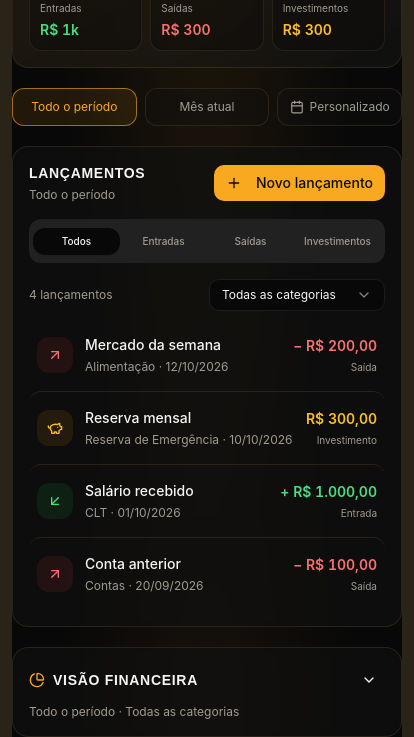
Test case: finance overview and unified transactions › groups only expenses in the chart and makes it collapsible
(page scrolled)
Click the button named "Expandir gráfico financeiro": click(369, 680) [353, 664, 385, 696]
(page scrolled)
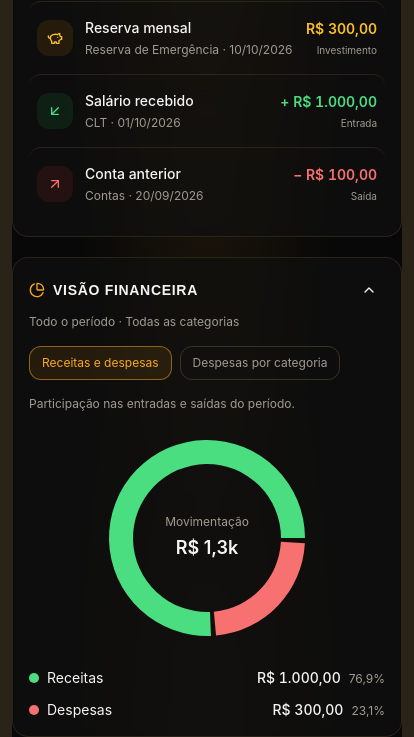
Result: the text "Receitas" is shown at [47, 668, 103, 688]
Result: the text "Despesas" is shown at [47, 700, 112, 720]
Result: the text "76,9%" is shown at [349, 671, 385, 686]
Click the button "Despesas por categoria": click(260, 363) [180, 346, 340, 380]
(page scrolled)
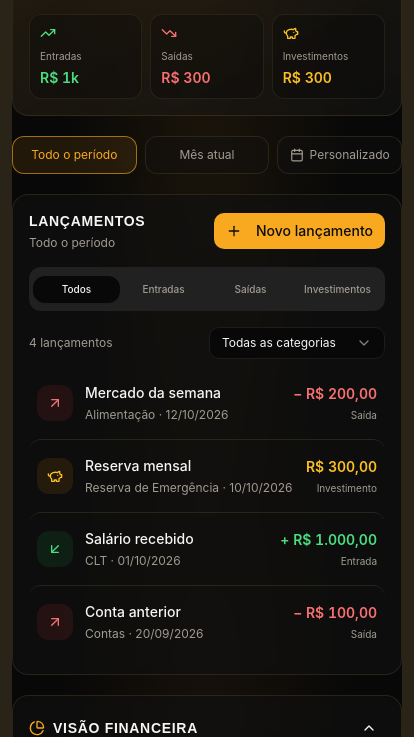
Click the button "Mês atual": click(207, 155) [145, 136, 269, 174]
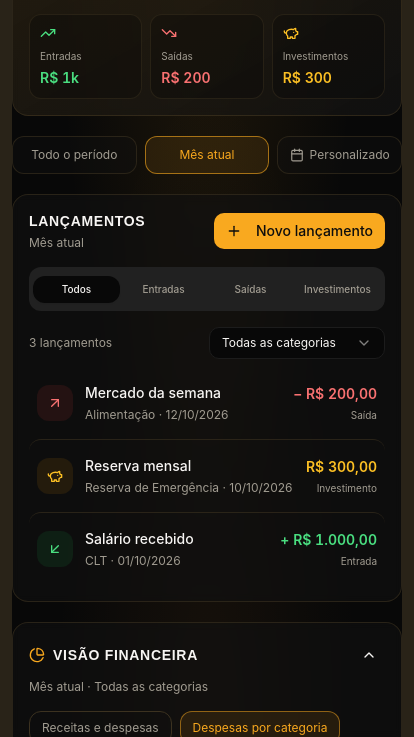
Result: the button "Contas" is gone
Click the button named "Recolher gráfico financeiro": click(369, 655) [353, 639, 385, 671]
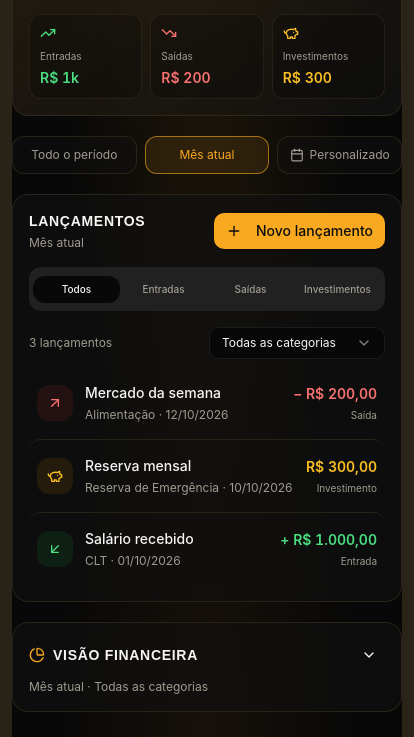
Result: the button named "Expandir gráfico financeiro" is collapsed at [353, 639, 385, 671]
